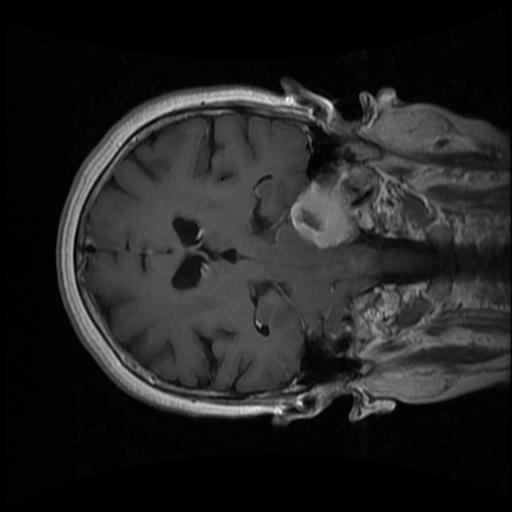meningioma: (291, 161, 359, 248)
